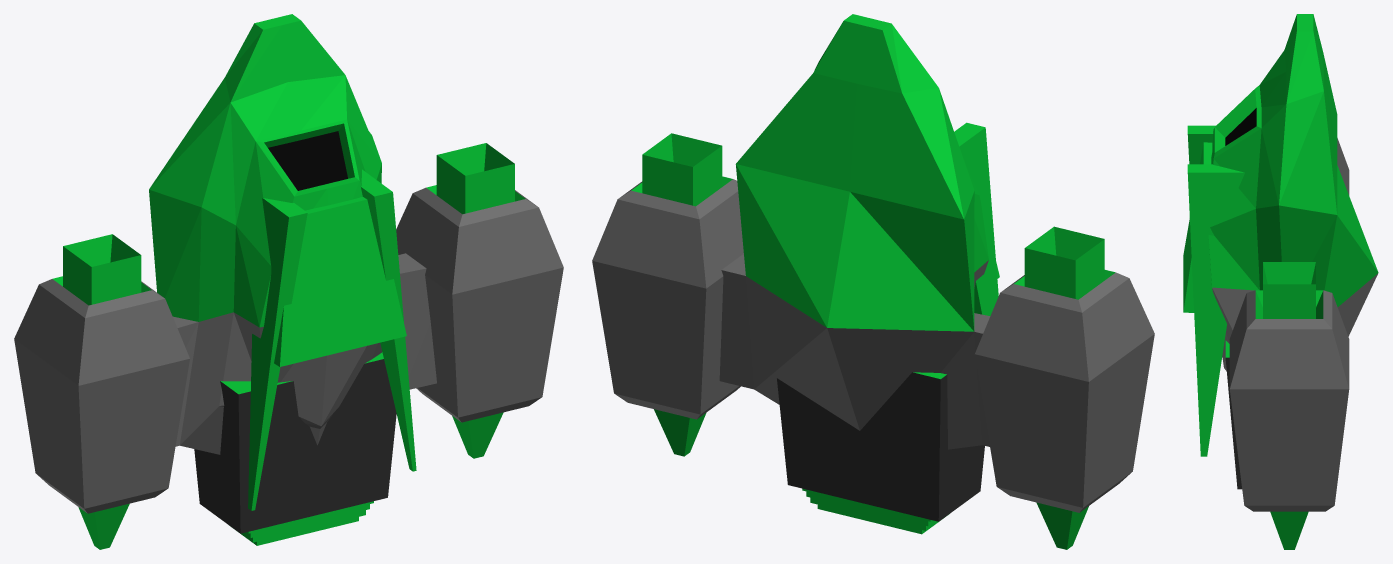
Rendered from spaceship.obj.
The picture shows the model from 3 angles, left to right: view 1: azimuth 30°, elevation 25°; view 2: azimuth 150°, elevation 25°; view 3: azimuth 270°, elevation 25°; orthographic projection. The views are drawn at different scales.
Bounding box in the file's own units: 8.7 × 8.38 × 3.27.
